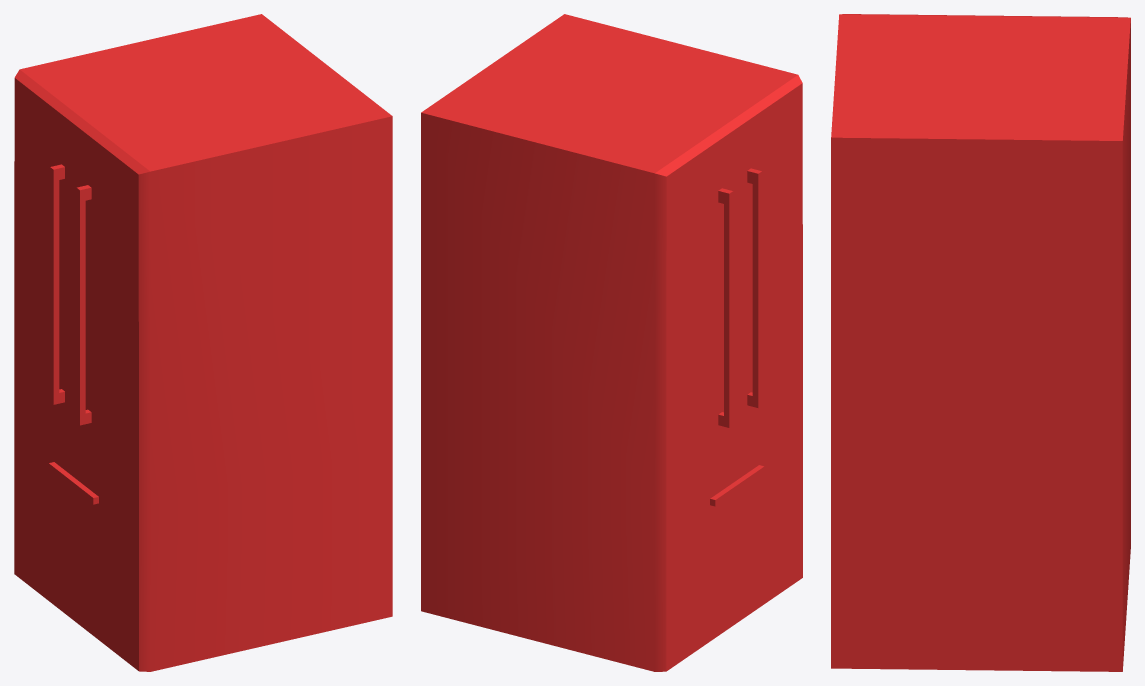
Rendered from Fridge 1_resized.FBX.
3 views of the same model, side by side, from view 1: azimuth 30°, elevation 25°; view 2: azimuth 150°, elevation 25°; view 3: azimuth 270°, elevation 25° (orthographic). The views are drawn at different scales.
Visible parts, largest first — view 1: Fridge 01; view 2: Fridge 01; view 3: Fridge 01.
Part boxes in pixels (bbox=[...]): Fridge 01: bbox=[14, 14, 392, 671]; Fridge 01: bbox=[421, 14, 802, 671]; Fridge 01: bbox=[831, 14, 1130, 671].
Size of the model in its own units: 1.44 by 2.62 by 1.34.
